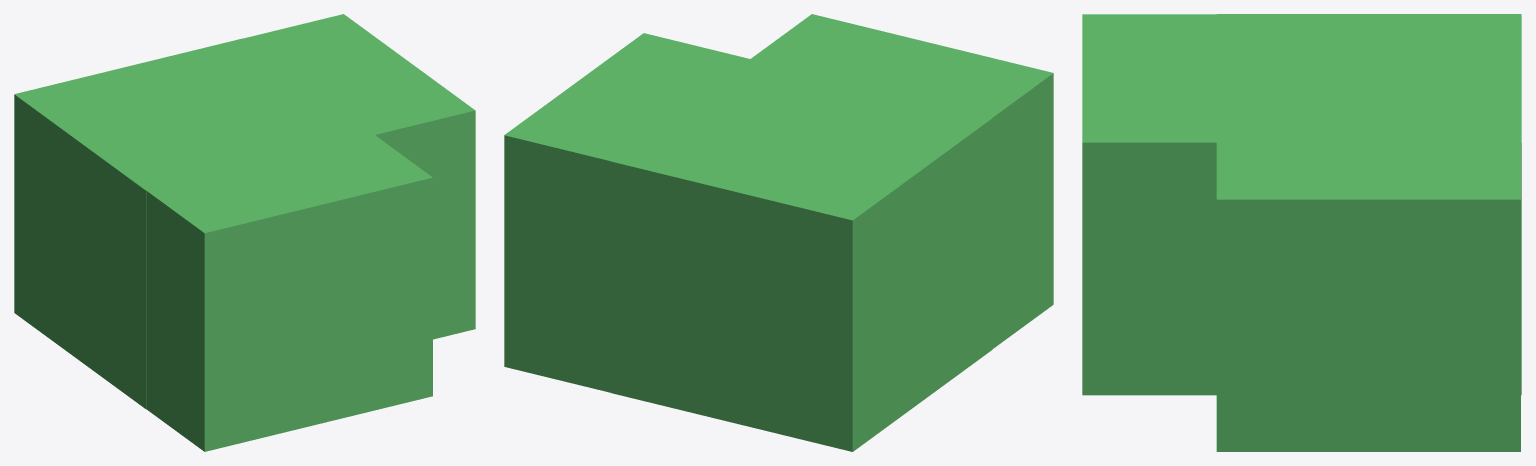
Rendered from fortress_wallwalk_corner_inner_occluder.glb.
3 views of the same model, side by side, from view 1: azimuth 30°, elevation 25°; view 2: azimuth 150°, elevation 25°; view 3: azimuth 270°, elevation 25° (orthographic). The views are drawn at different scales.
Visible parts, largest first — view 1: fortress_wallwalk_corner_inner-occ-south, fortress_wallwalk_corner_inner-occ-east; view 2: fortress_wallwalk_corner_inner-occ-east, fortress_wallwalk_corner_inner-occ-south; view 3: fortress_wallwalk_corner_inner-occ-east, fortress_wallwalk_corner_inner-occ-south.
Boxes of the visible parts, x1=… form: fortress_wallwalk_corner_inner-occ-south: x1=16, y1=38, x2=432, y2=451; fortress_wallwalk_corner_inner-occ-east: x1=14, y1=14, x2=475, y2=409; fortress_wallwalk_corner_inner-occ-east: x1=504, y1=33, x2=992, y2=451; fortress_wallwalk_corner_inner-occ-south: x1=610, y1=14, x2=1053, y2=451; fortress_wallwalk_corner_inner-occ-east: x1=1216, y1=14, x2=1520, y2=451; fortress_wallwalk_corner_inner-occ-south: x1=1082, y1=14, x2=1521, y2=395.
Size of the model in its own units: 4.76 by 3.02 by 4.76.
